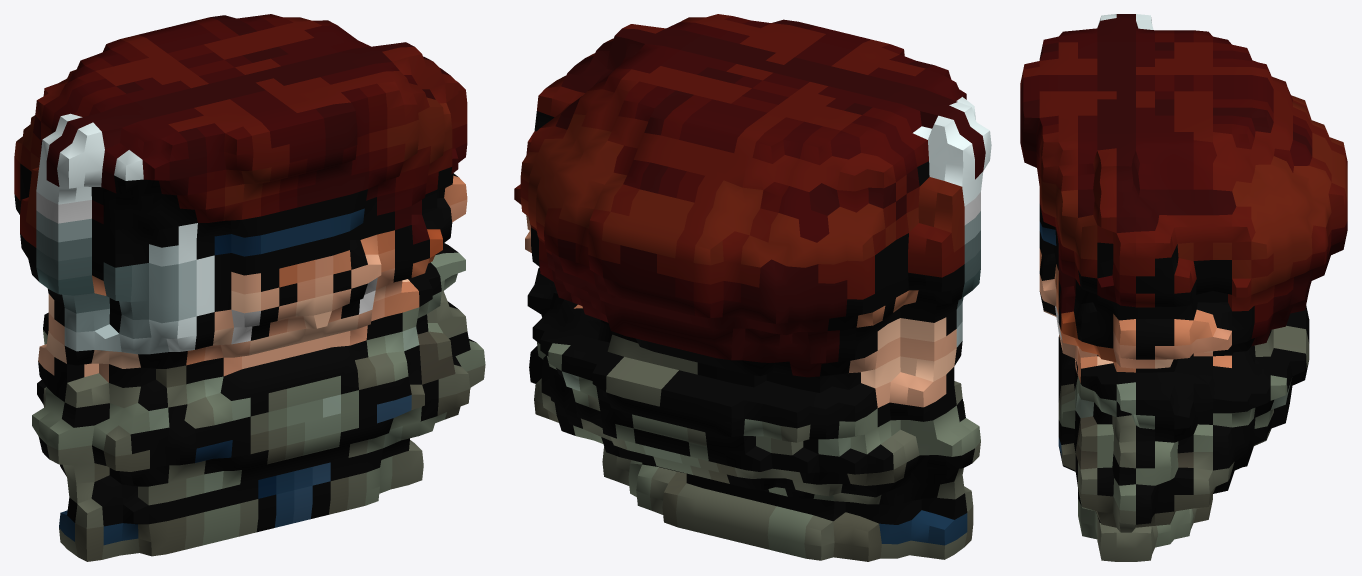
The model's file is Icon_113_02.obj.
The picture shows the model from 3 angles, left to right: view 1: azimuth 30°, elevation 25°; view 2: azimuth 150°, elevation 25°; view 3: azimuth 270°, elevation 25°; orthographic projection. The views are drawn at different scales.
Bounding box in the file's own units: 2.4 × 2.3 × 1.7.
Materials: 1 (1 with a texture image).
